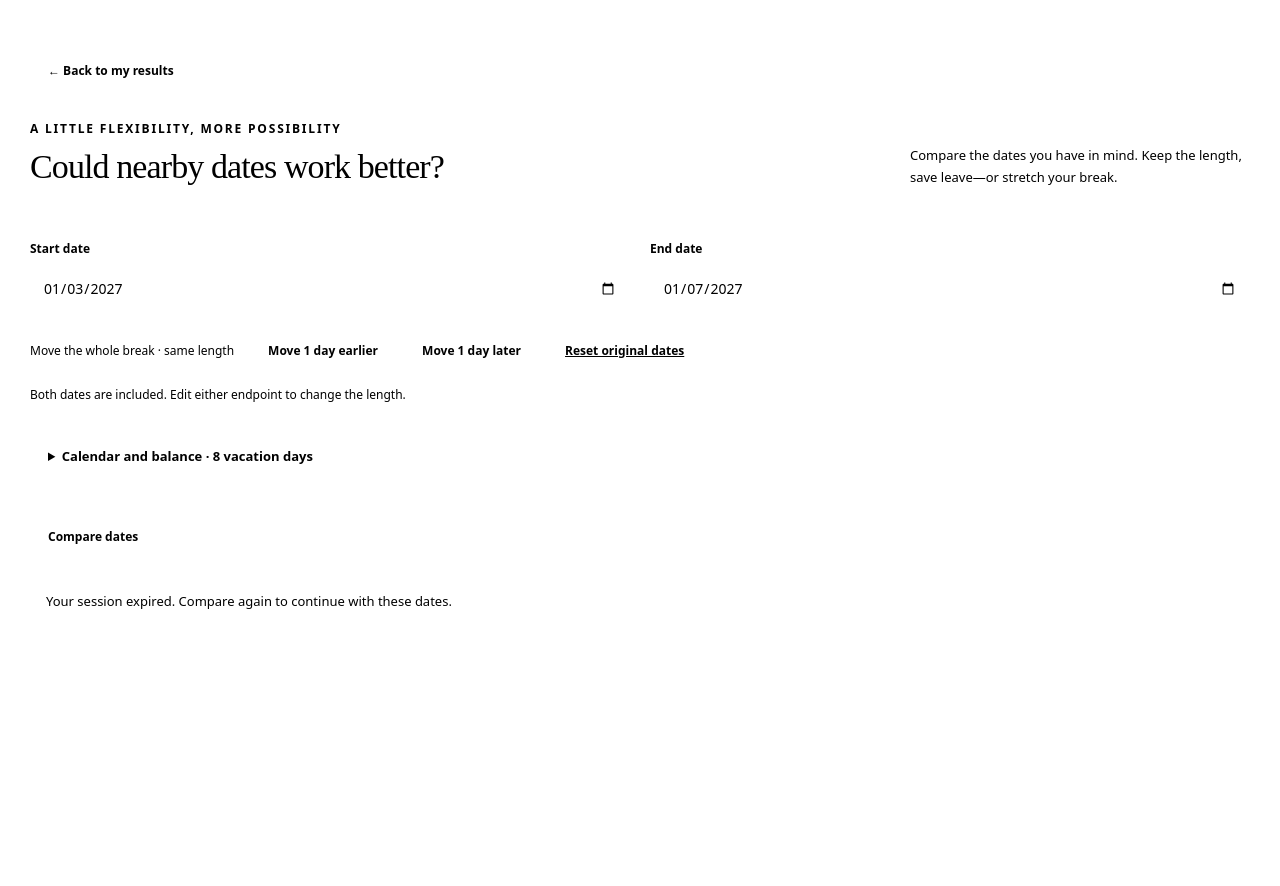
expired Search-origin sessions recover explicitly without claiming the old search
Check: the message shows "Your session expired. Compare again", box [46,592,452,610]
Click the button "Compare dates": click(93, 536) [30,514,156,560]
(page scrolled)
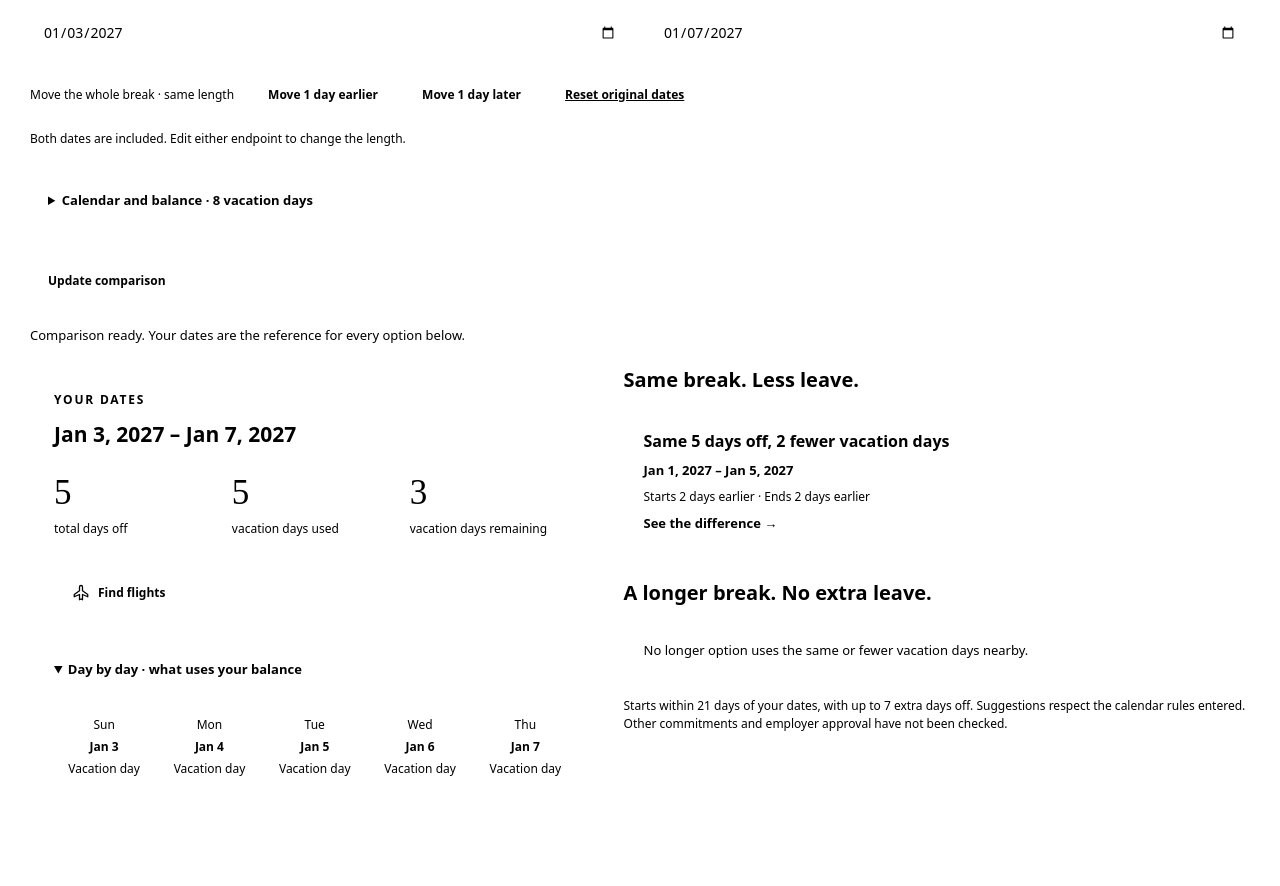
Check: the element "Your dates" is shown, box [30,367,600,828]
